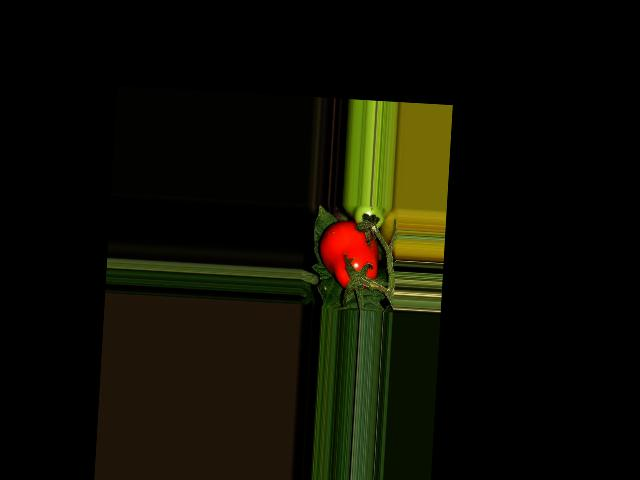tomato: (317, 219, 380, 291)
